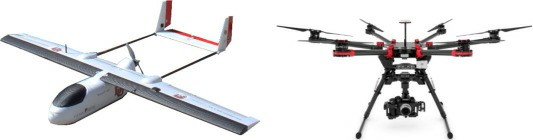maybay_khongnguoilai: (281, 8, 524, 136), (11, 12, 254, 134)
